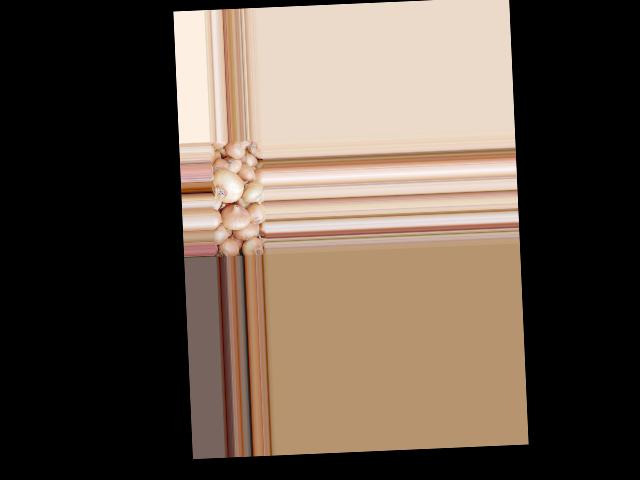onion: (242, 237, 262, 256)
